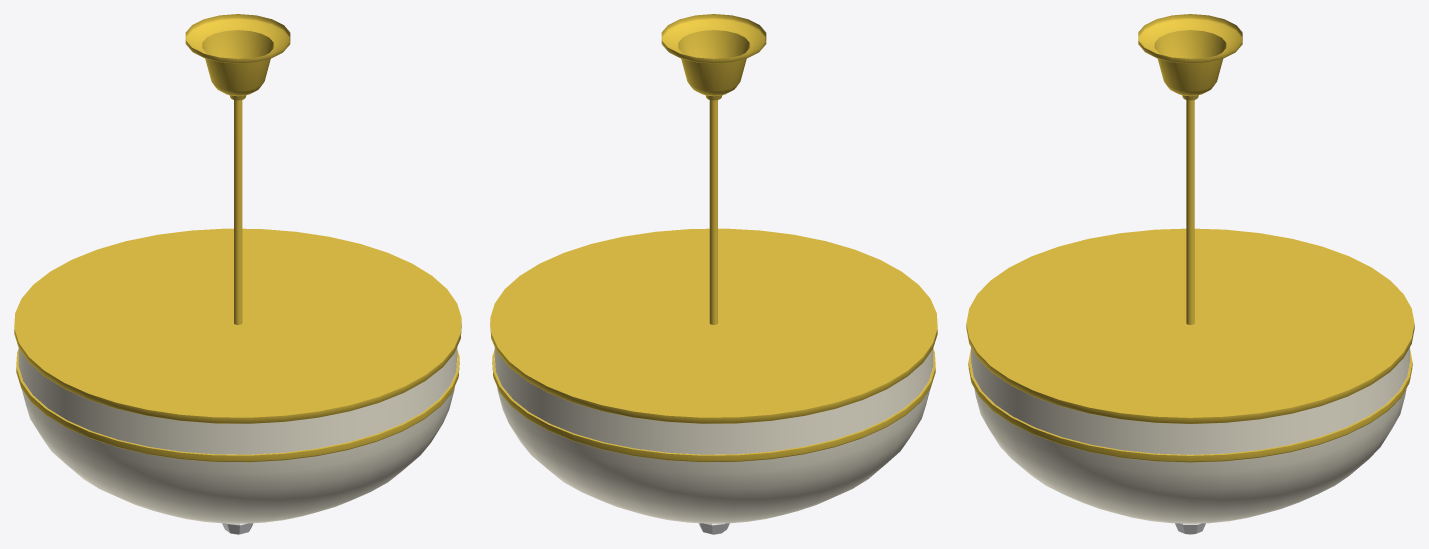
The model's file is LightCeilingRetro02.FBX.
3 views of the same model, side by side, from view 1: azimuth 30°, elevation 25°; view 2: azimuth 150°, elevation 25°; view 3: azimuth 270°, elevation 25° (orthographic).
Visible parts, largest first — view 1: LightCeilingRetro02; view 2: LightCeilingRetro02; view 3: LightCeilingRetro02.
Boxes of the visible parts, x1,y1,x2,y2 form: LightCeilingRetro02: (14,14,461,534); LightCeilingRetro02: (490,14,937,534); LightCeilingRetro02: (966,14,1414,534).
Size of the model in its own units: 1062 by 1304 by 1062.
